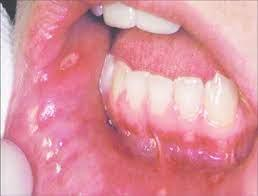Ulcer: (48, 44, 89, 81)
